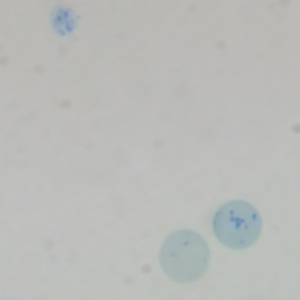aggregate reticulocyte: (210, 199, 264, 252)
punctate reticulocyte: (157, 228, 212, 286)
